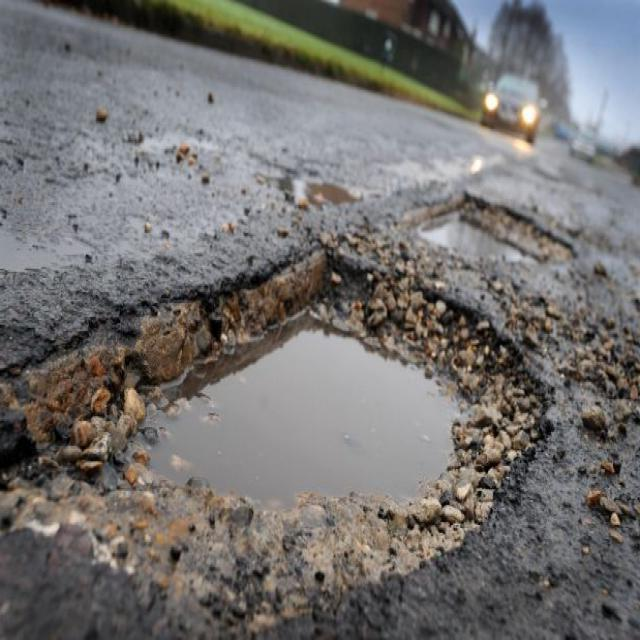Pothole: (10, 241, 561, 592), (405, 188, 576, 266)
